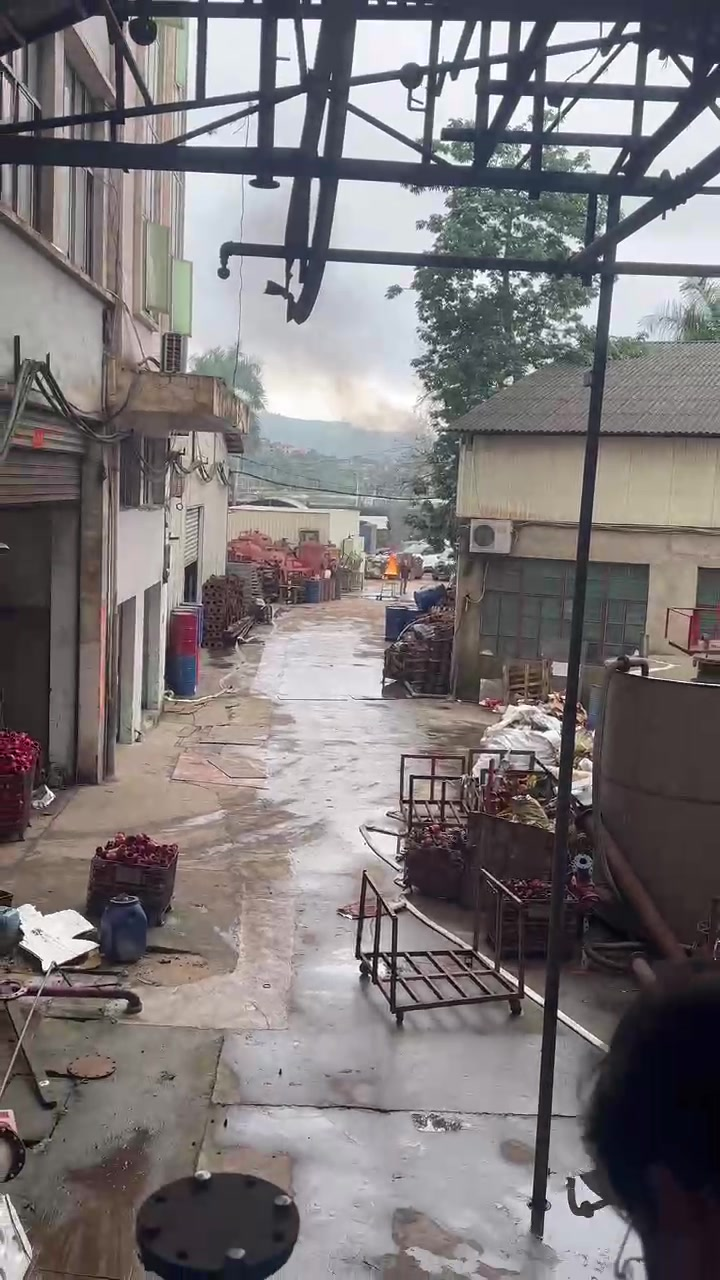fire: (384, 554, 396, 573)
